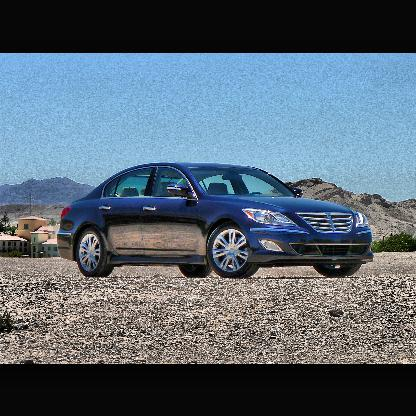Hyundai Genesis Sedan 2012: (58, 162, 374, 278)
